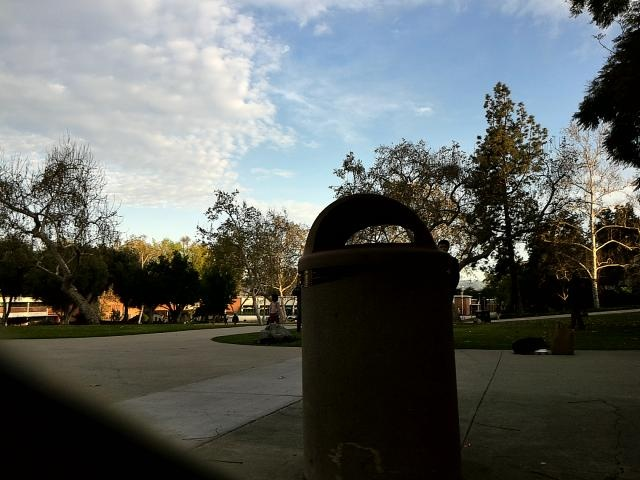trashcan: (286, 189, 466, 478)
